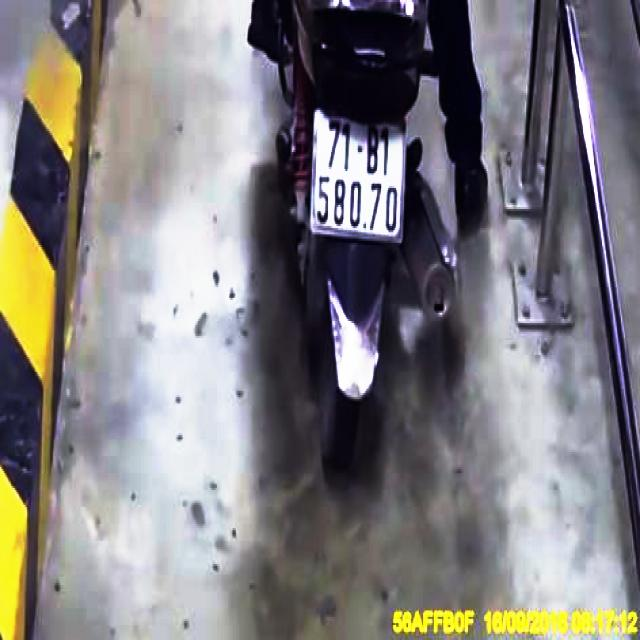license_plate: (315, 113, 407, 243)
